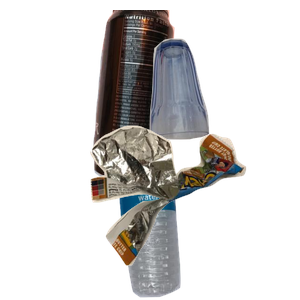glass: (147, 36, 300, 168)
metal: (91, 10, 258, 188)
plastic: (115, 176, 288, 300)
trash: (88, 123, 300, 300)
